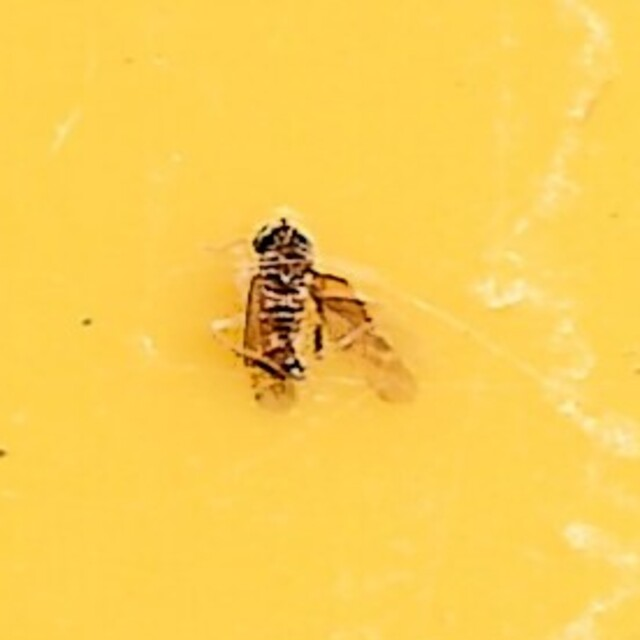Hemiptera: (232, 209, 408, 431)
